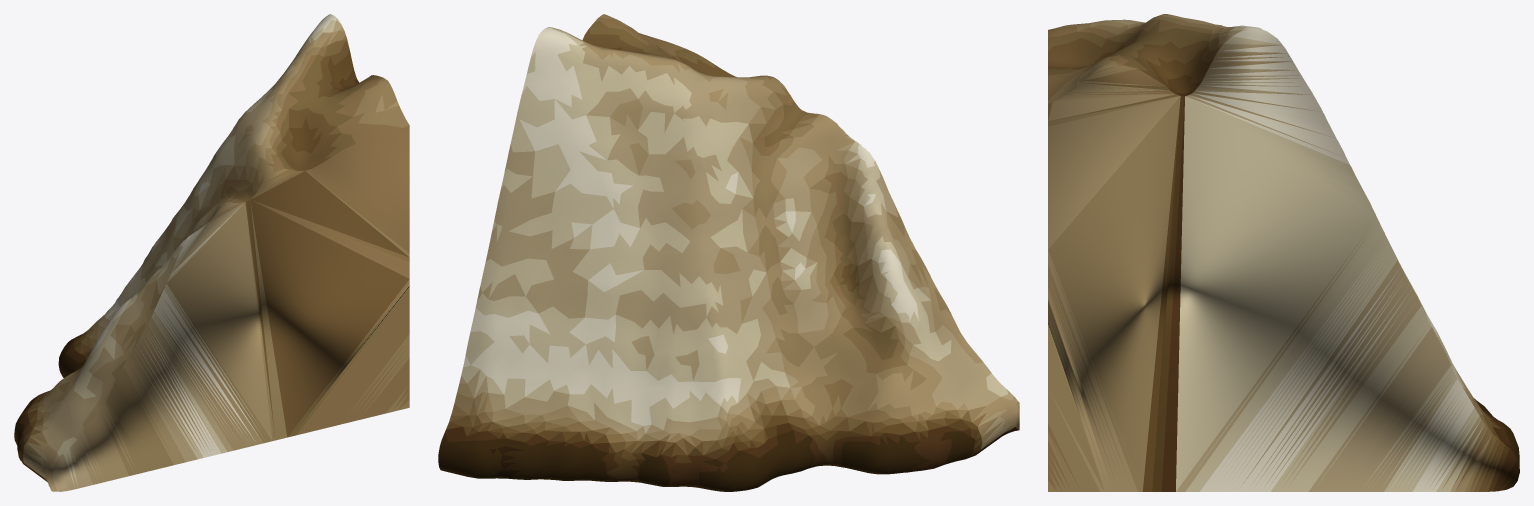
The model's file is rock_arch_162.glb.
3 renders of one model, left to right at view 1: azimuth 30°, elevation 25°; view 2: azimuth 150°, elevation 25°; view 3: azimuth 270°, elevation 25°, orthographic. The views are drawn at different scales.
Parts seen in each view (by area): view 1: rock_arch_162; view 2: rock_arch_162; view 3: rock_arch_162.
Part boxes in pixels (x1=…): rock_arch_162: x1=14, y1=14, x2=409, y2=491; rock_arch_162: x1=438, y1=14, x2=1019, y2=491; rock_arch_162: x1=1048, y1=14, x2=1519, y2=491.
Bounding box in the file's own units: 24 × 21.57 × 19.94.
